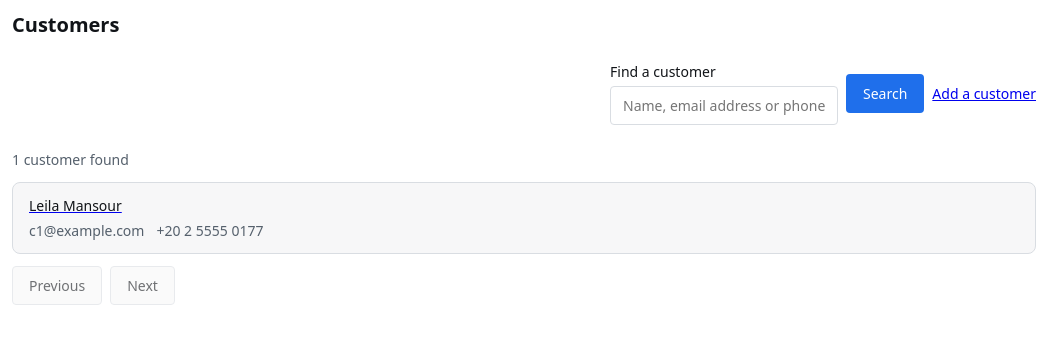
Test case: nothing found shows why, and offers the way back
The width and height of the screenshot is (1048, 341).
Expected: the text "Leila Mansour" is shown, [29,196,122,215]
Type "nobody" into the field labelled "Find a customer".
click(724, 106); type("nobody")  # box [610,86,838,125]
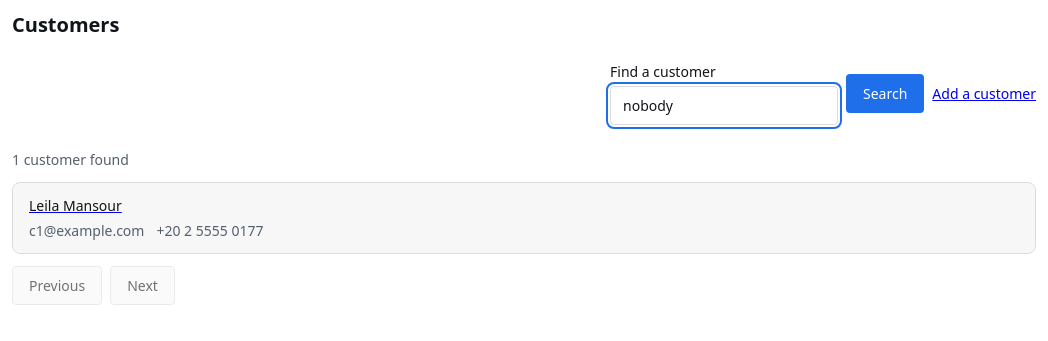
Click the button "Search".
click(885, 93)  # box [846,74,924,112]
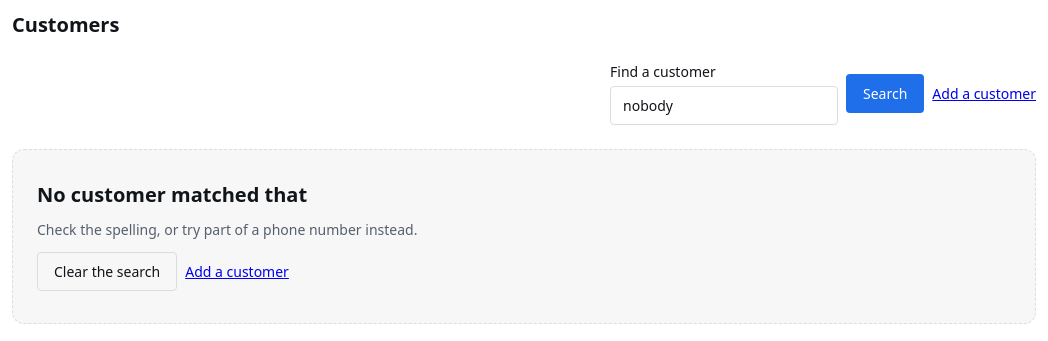
Now the heading "No customer matched that" is shown, box [37,181,307,208]
Now the text "Check the spelling, or try part of a phone number instead." is shown, box [37,220,417,239]
Click the button "Clear the search".
click(107, 272)  # box [37,252,177,291]
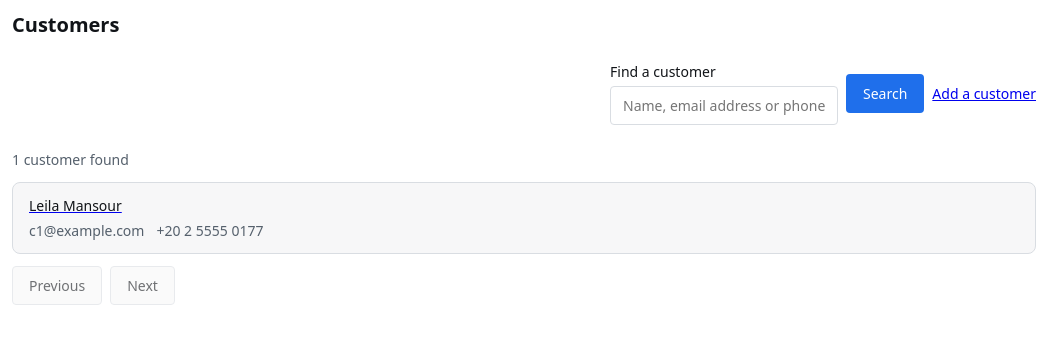
Now the text "Leila Mansour" is shown, box [29,196,122,215]
